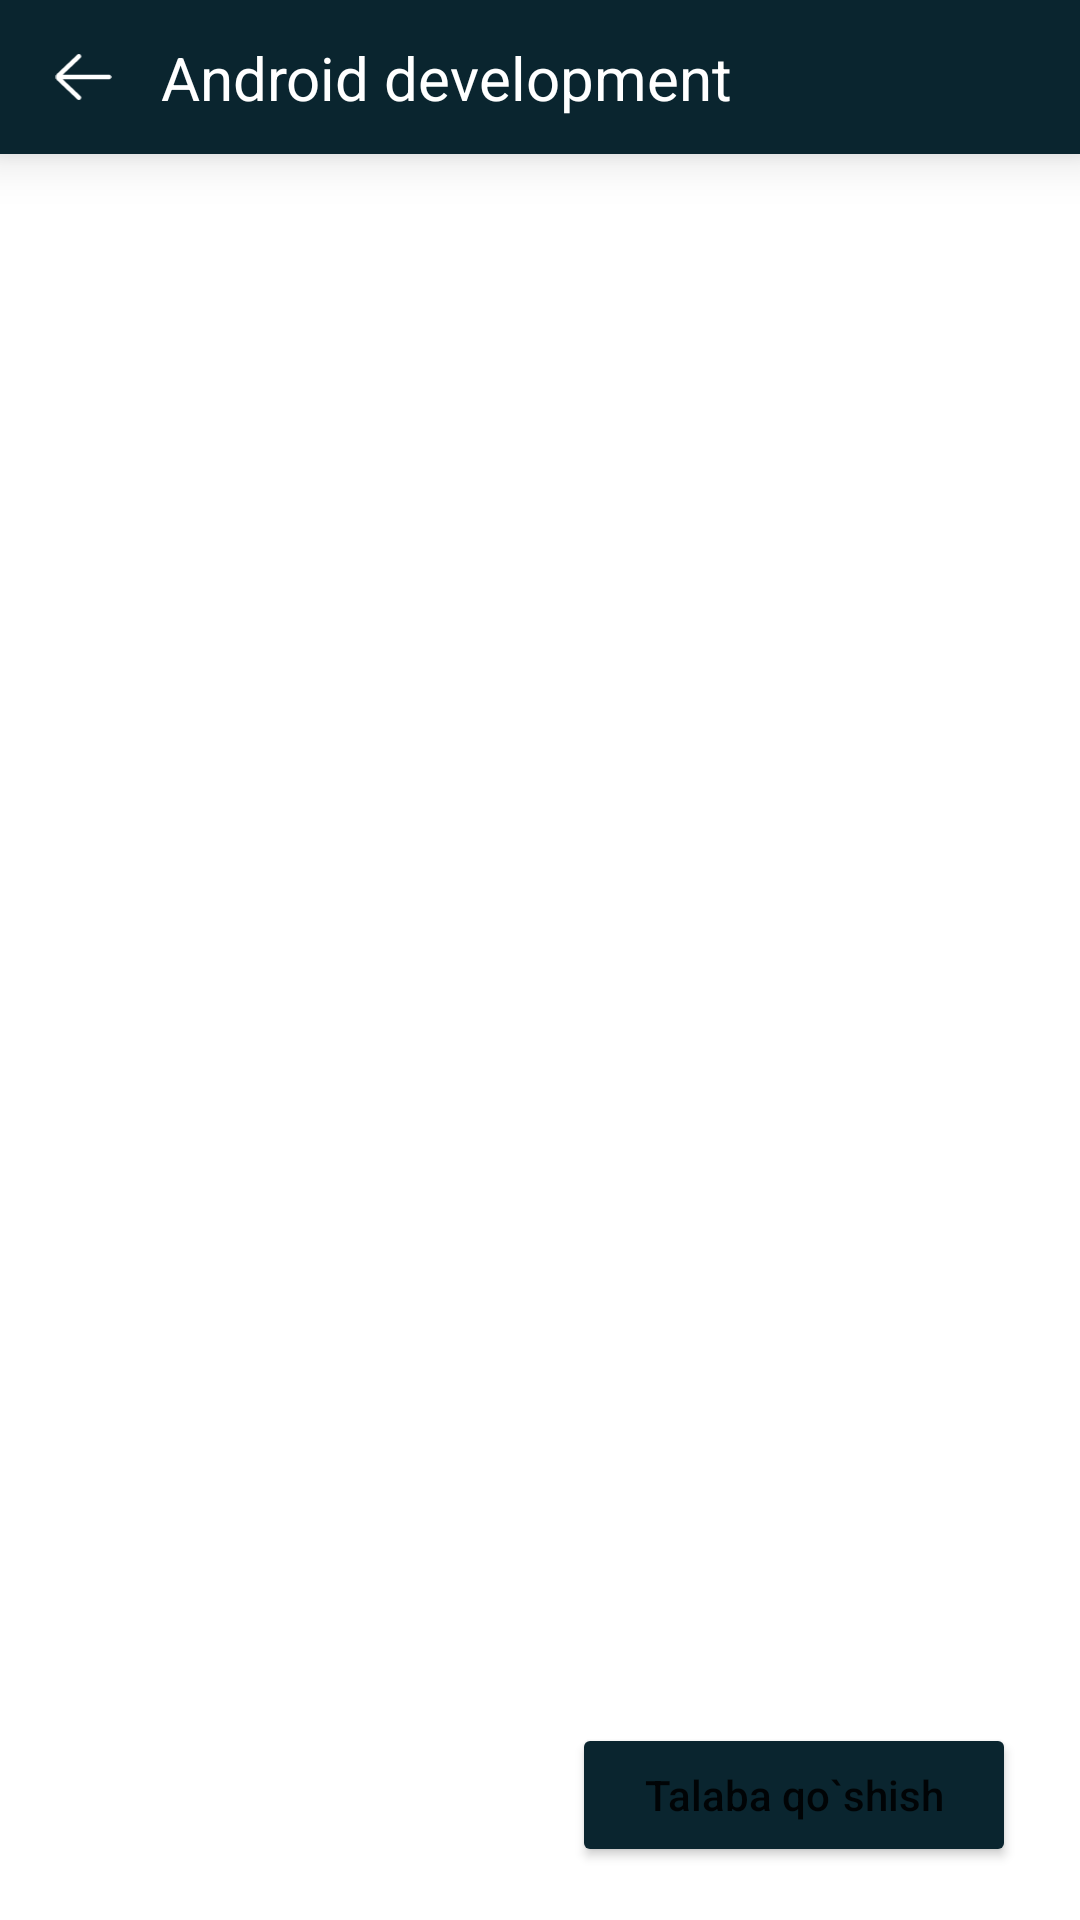

Screen size 1080*1920. Icon name, then its box in pixels as [x1,y1,x2,y2]:
back: [55,54,112,100]
